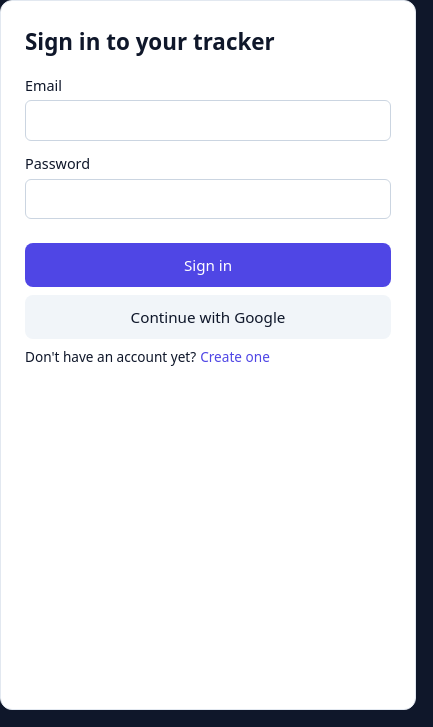
it: AuthPage › allows toggling to create account mode
Click the button "Create one": (235, 358) [200,347,270,368]
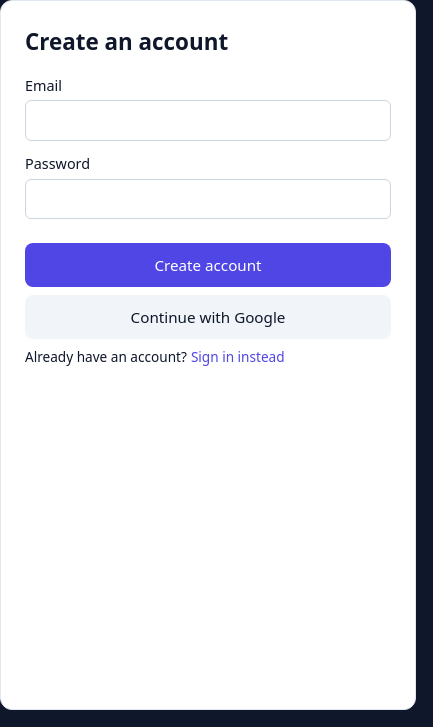
Expected: the heading "Create an account" is shown, [25,26,228,57]
Expected: the button "Create account" is shown, [25,243,391,287]
